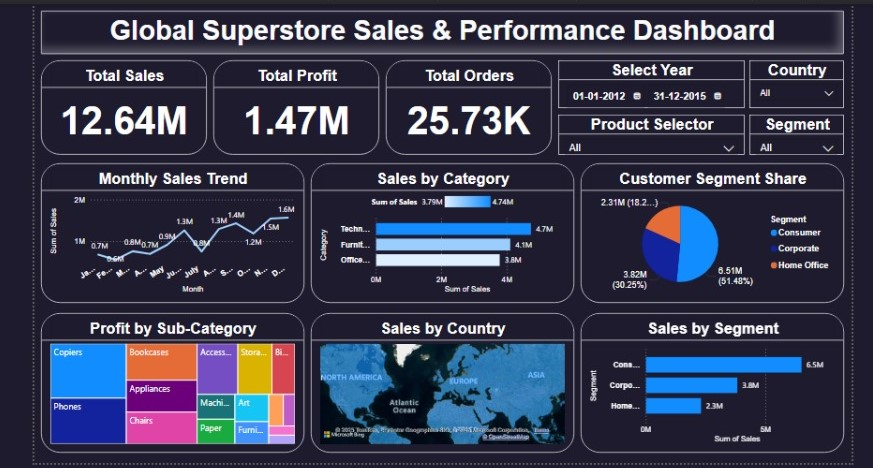

What the dashboard file says about the page in this screenshot:
{"tool":"powerbi","page":{"name":"Page 1","canvas":[1280,720],"ordinal":0},"visuals":[{"type":"textbox","box":[10.3,10.3,1259.3,67.6],"z":0},{"type":"card","title":"Total Sales","fields":{"Values":["Sum(Table1.Sales)"]},"box":[10.3,88.2,260.1,148.4],"z":1000},{"type":"card","title":"Total Profit","fields":{"Values":["Sum(Table1.Profit)"]},"box":[280.7,88.2,260.1,148.4],"z":2000},{"type":"card","title":"Total Orders","fields":{"Values":["Count(Table1.Order ID)"]},"box":[551,88.2,260.1,148.4],"z":3000},{"type":"lineChart","title":" Monthly Sales Trend","fields":{"Y":["Sum(Table1.Sales)"],"Category":["Table1.Order Date.Variation.Date Hierarchy.Month"]},"box":[10.3,249.8,412.9,218.9],"z":4000},{"type":"barChart","title":"Sales by Category","fields":{"Y":["Sum(Table1.Sales)"],"Category":["Table1.Category"]},"box":[433.5,249.8,412.9,218.9],"z":5000},{"type":"pieChart","title":"Customer Segment Share","fields":{"Y":["Sum(Table1.Sales)"],"Category":["Table1.Segment"]},"box":[856.7,249.8,412.9,218.9],"z":6000},{"type":"treemap","title":"Profit by Sub-Category","fields":{"Group":["Table1.Sub-Category"],"Values":["Sum(Table1.Profit)"]},"box":[10.3,484.9,412.9,218.9],"z":7000},{"type":"filledMap","title":"Sales by Country","fields":{"Category":["Table1.Country"]},"box":[433.5,484.9,412.9,218.9],"z":8000},{"type":"barChart","title":"Sales by Segment","fields":{"Category":["Table1.Segment"],"Y":["Sum(Table1.Sales)"]},"box":[856.7,484.9,412.9,218.9],"z":9000},{"type":"slicer","title":"Select Year","fields":{"Values":["Table1.Order Date"]},"box":[821.4,88.2,292.4,74.9],"z":9001},{"type":"slicer","title":"Country","fields":{"Values":["Table1.Country"]},"box":[1121.1,88.2,148.4,74.9],"z":9002},{"type":"slicer","title":" Product Selector","fields":{"Values":["Table1.Product Name"]},"box":[821.4,173.4,292.4,63.2],"z":9003},{"type":"slicer","title":"Segment","fields":{"Values":["Table1.Segment"]},"box":[1121.1,173.4,148.4,63.2],"z":9004}]}

Visuals, with their boxes in screenshot pixels (x1, y1, x2, y2):
textbox: l=36, t=23, r=844, b=66
"Total Sales" card: l=36, t=72, r=203, b=168
"Total Profit" card: l=210, t=72, r=376, b=168
"Total Orders" card: l=383, t=72, r=550, b=168
" Monthly Sales Trend" lineChart: l=36, t=176, r=301, b=317
"Sales by Category" barChart: l=308, t=176, r=572, b=317
"Customer Segment Share" pieChart: l=579, t=176, r=844, b=317
"Profit by Sub-Category" treemap: l=36, t=327, r=301, b=467
"Sales by Country" filledMap: l=308, t=327, r=572, b=467
"Sales by Segment" barChart: l=579, t=327, r=844, b=467
"Select Year" slicer: l=556, t=72, r=744, b=121
"Country" slicer: l=749, t=72, r=844, b=121
" Product Selector" slicer: l=556, t=127, r=744, b=168
"Segment" slicer: l=749, t=127, r=844, b=168
